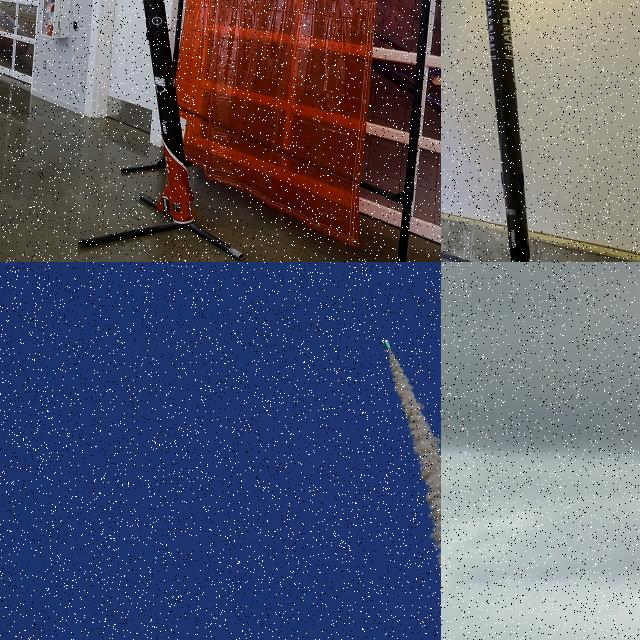Rocket: (485, 0, 531, 262), (143, 0, 196, 222), (384, 339, 393, 352)
